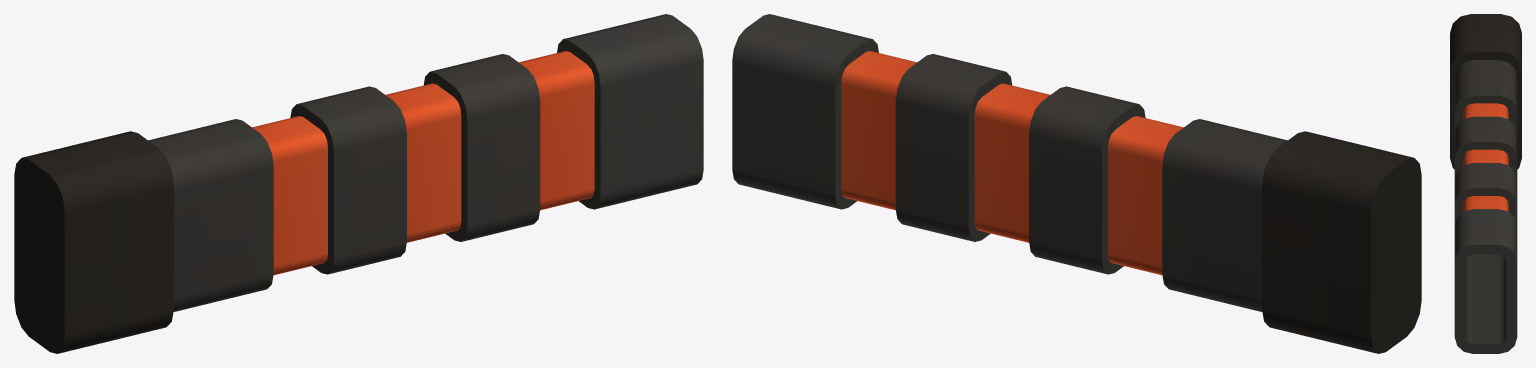
File: AR6_Muzzle.fbx
3 views of the same model, side by side, from view 1: azimuth 30°, elevation 25°; view 2: azimuth 150°, elevation 25°; view 3: azimuth 270°, elevation 25° (orthographic). The views are drawn at different scales.
Parts seen in each view (by area): view 1: AR6_Muzzle; view 2: AR6_Muzzle; view 3: AR6_Muzzle.
Boxes of the visible parts, <box> form: AR6_Muzzle: <box>14,14,703,353</box>; AR6_Muzzle: <box>732,14,1421,353</box>; AR6_Muzzle: <box>1450,14,1521,353</box>.
Bounding box in the file's own units: 22.26 × 5.86 × 3.04.
